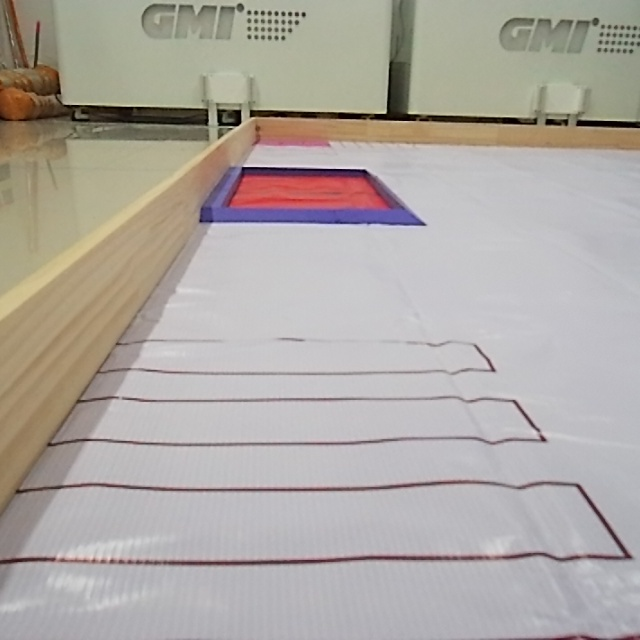zone1: (196, 163, 429, 230)
